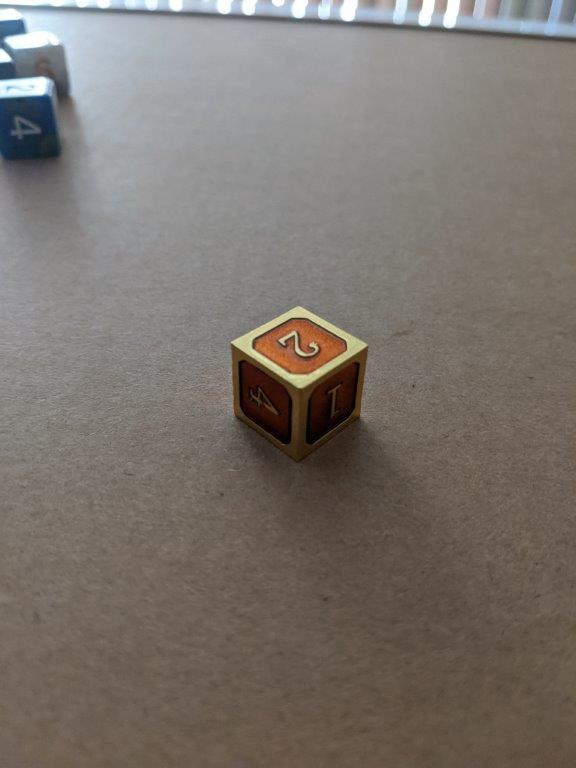d6-2: (231, 302, 368, 457)
